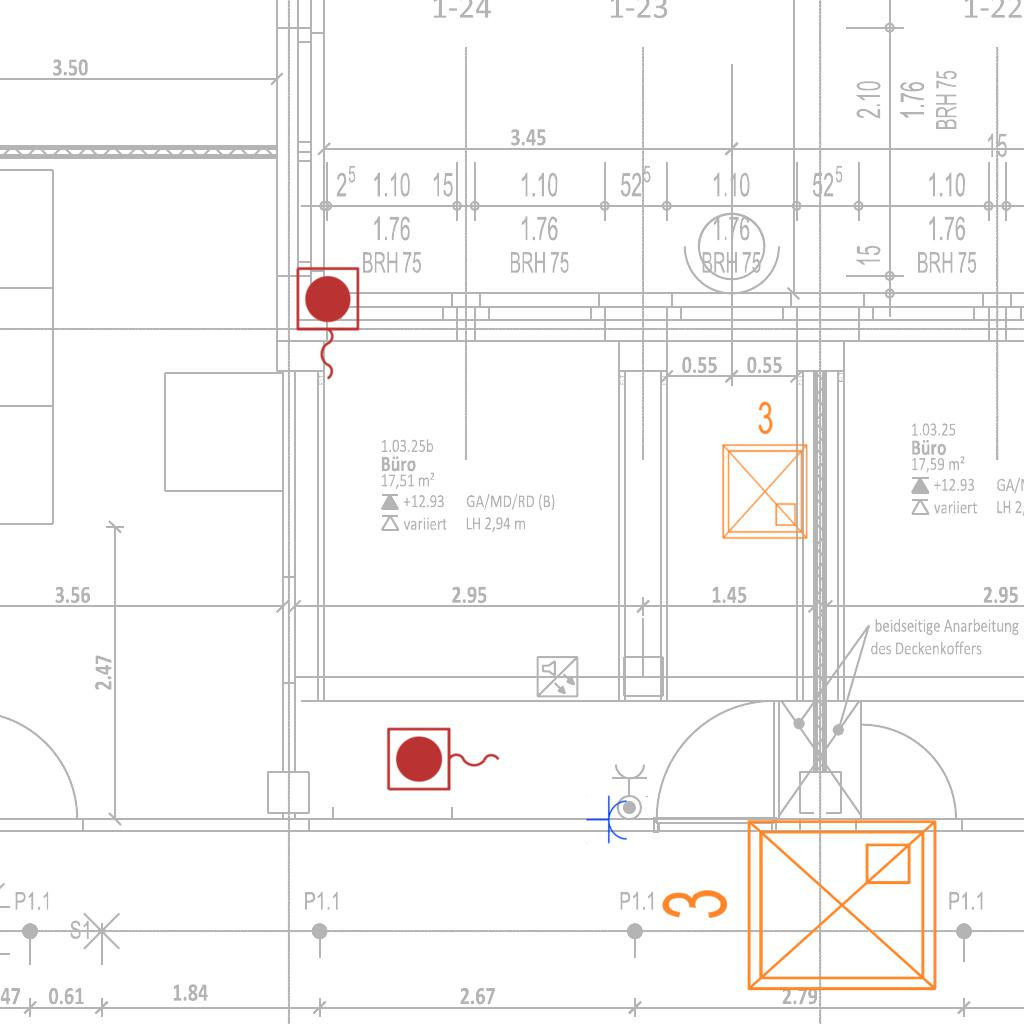Einbaudownlights_LED_Konferenzraeume: (651, 805, 951, 1013), (711, 396, 815, 546)
Schukosteckdose_einfach: (586, 795, 629, 845)
Zugtaster: (383, 724, 505, 796), (291, 263, 363, 385)
